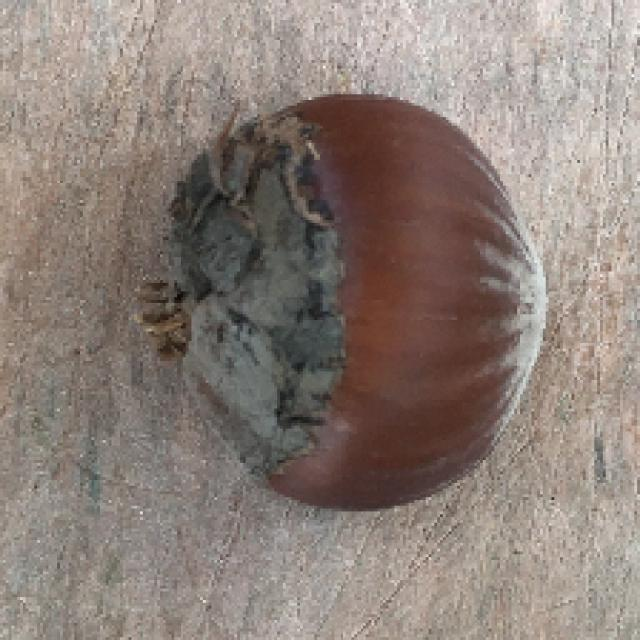DamagedHazelnut: (168, 89, 553, 511)
